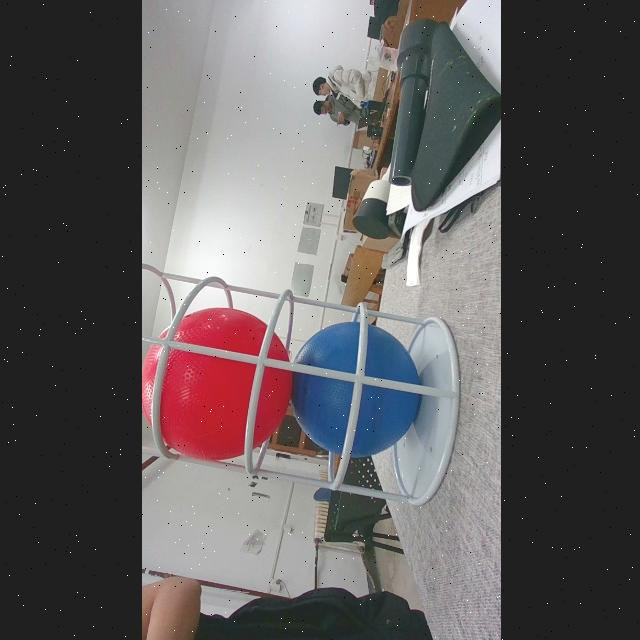B: (286, 321, 422, 457)
R: (140, 306, 290, 460)
S: (140, 263, 458, 505)
